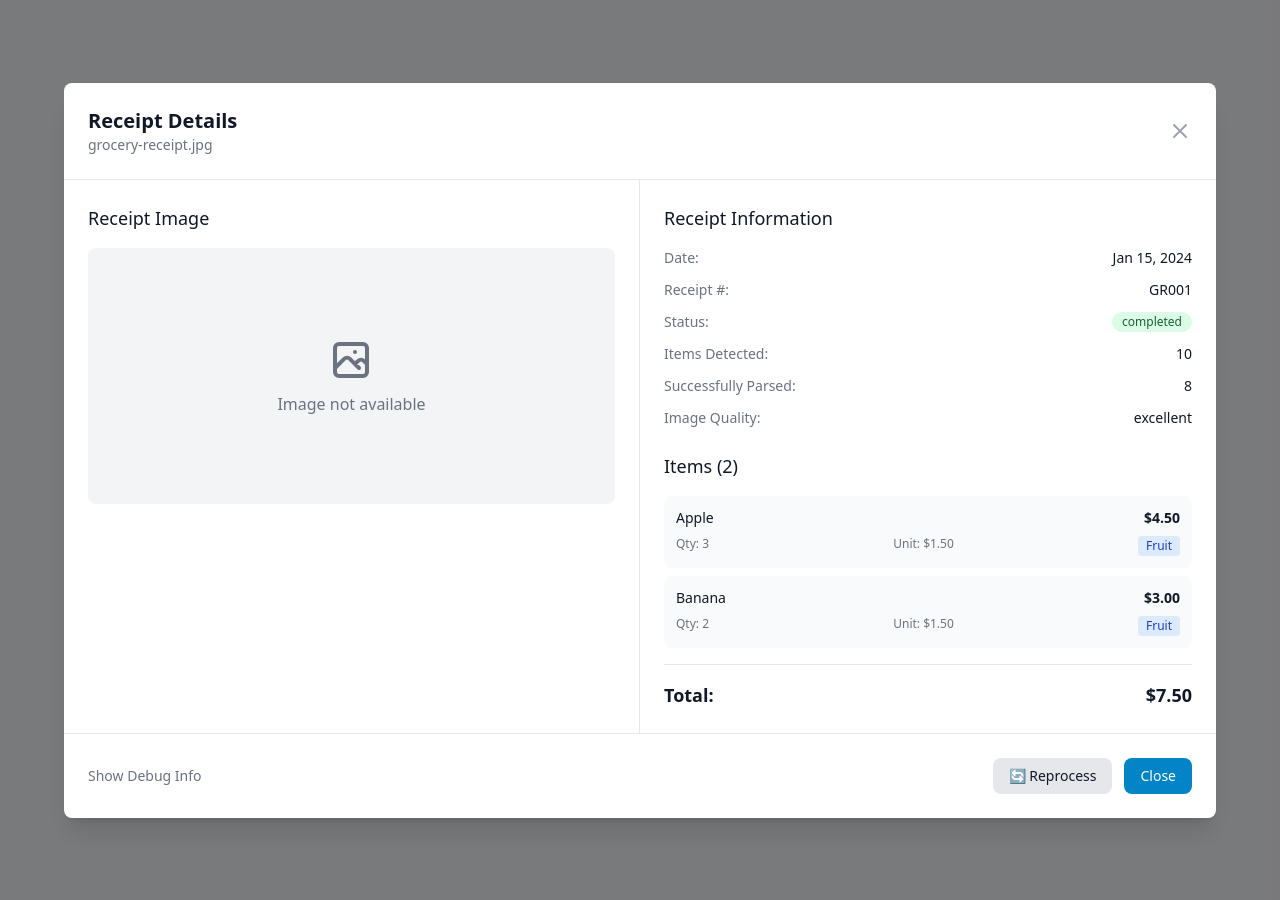
Scenario: ReceiptDetailModal Component › Debug Information › should toggle debug info visibility
Click the button "Show Debug Info" at coordinates (145, 776), box [88,766,202,786]
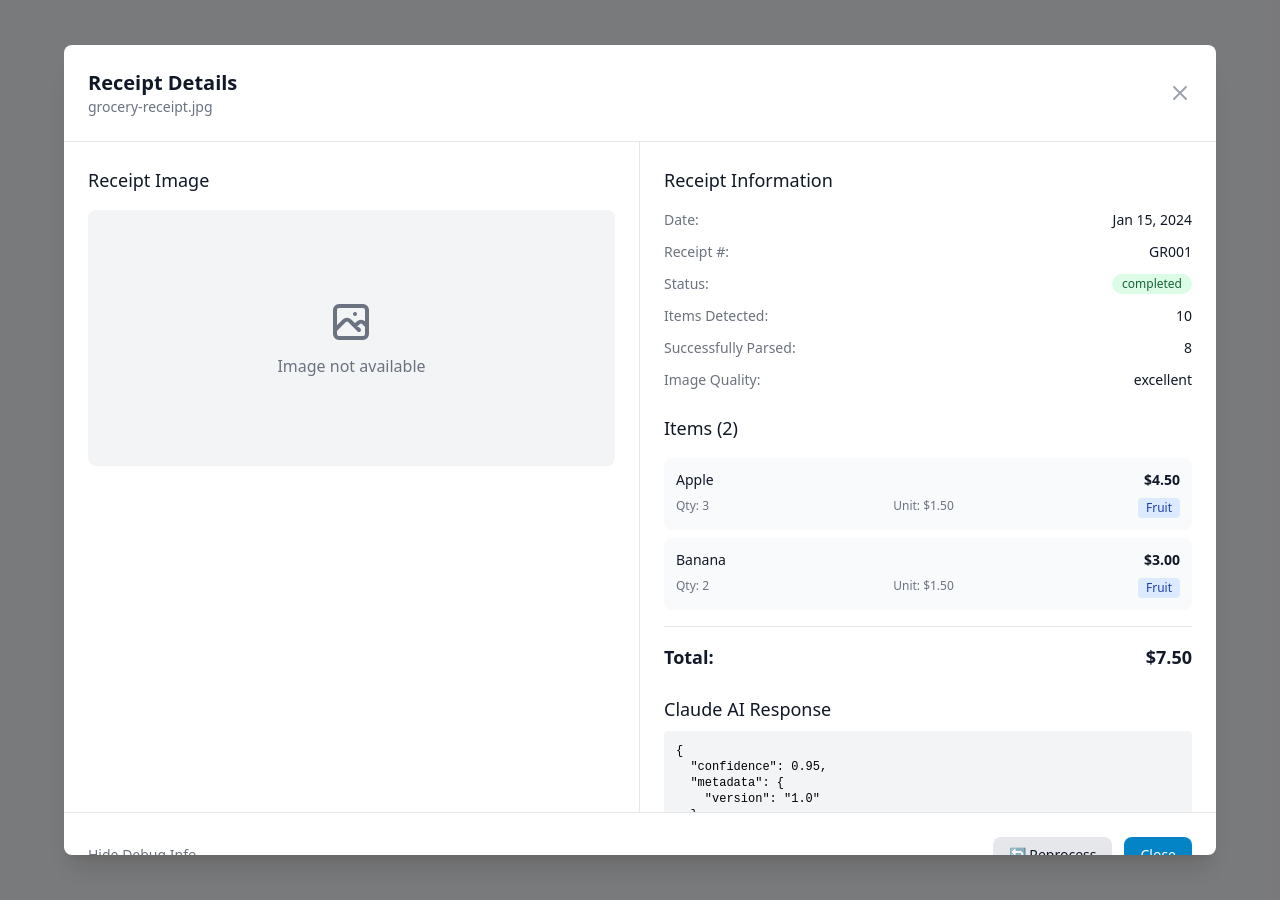
Expected: the text "Claude AI Response" is shown, [664,697,831,721]
Expected: the text "\"confidence\": 0.95" is shown, [676,744,827,812]
